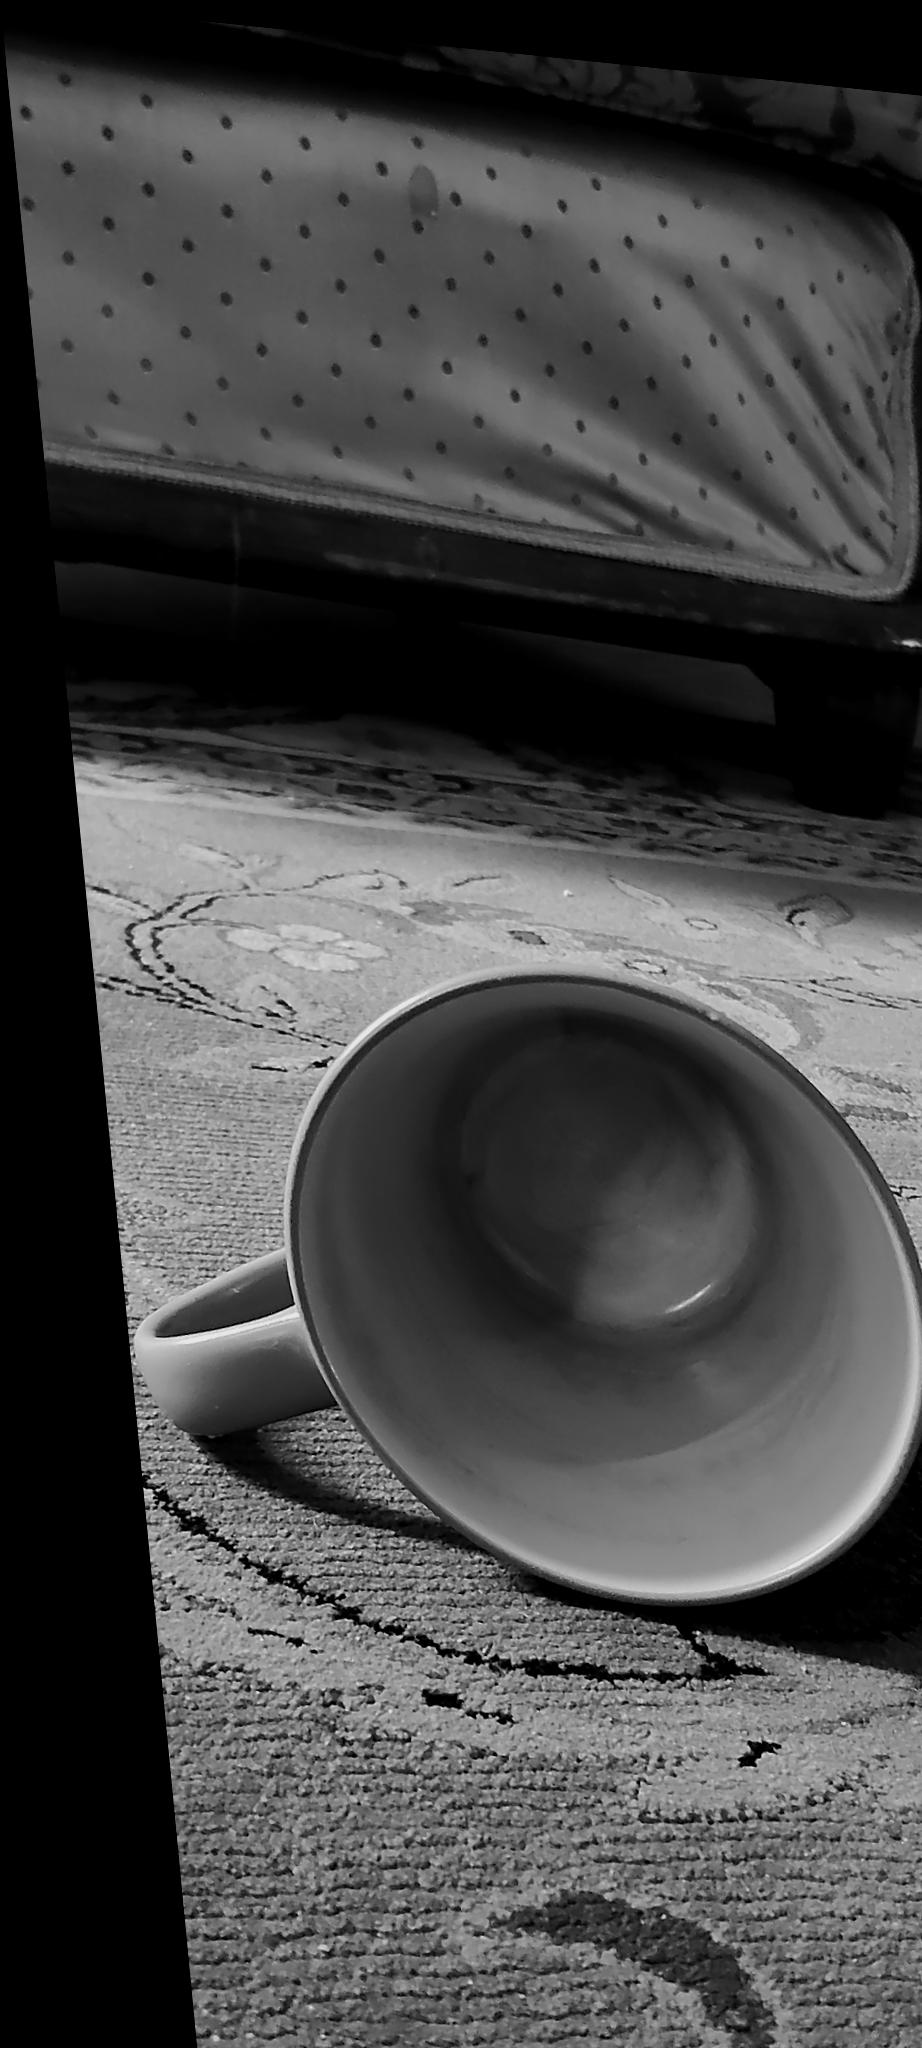Mug: (88, 916, 922, 1637)
